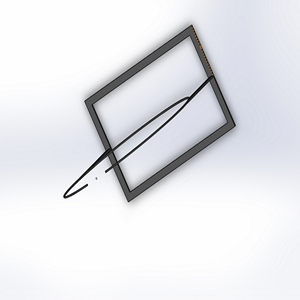circle: (63, 21, 239, 205)
